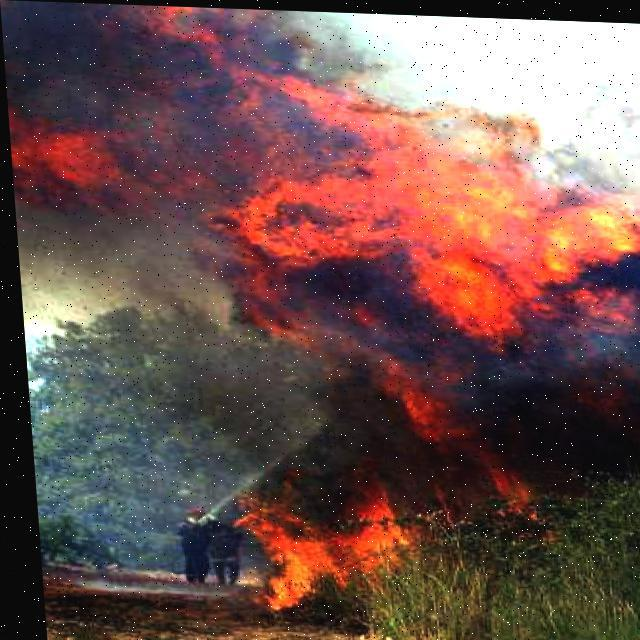Fire: (24, 16, 639, 614)
